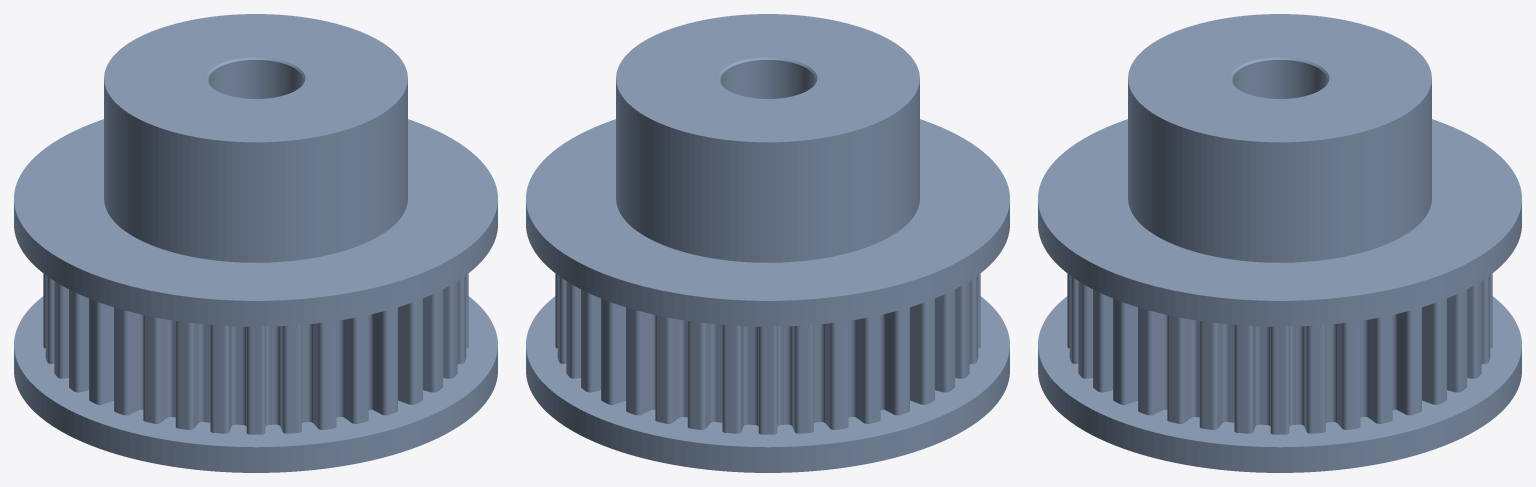
Rendered from timing_pulley.obj.
3 renders of one model, left to right at view 1: azimuth 30°, elevation 25°; view 2: azimuth 150°, elevation 25°; view 3: azimuth 270°, elevation 25°, orthographic.
Visible parts, largest first — view 1: timing_pulley.stl; view 2: timing_pulley.stl; view 3: timing_pulley.stl.
Part boxes in pixels (box(x1,y1,x2,y2)): timing_pulley.stl: box(14, 14, 497, 472); timing_pulley.stl: box(526, 14, 1009, 472); timing_pulley.stl: box(1038, 14, 1521, 472).
Bounding box in the file's own units: 25.5 × 17 × 25.49.
